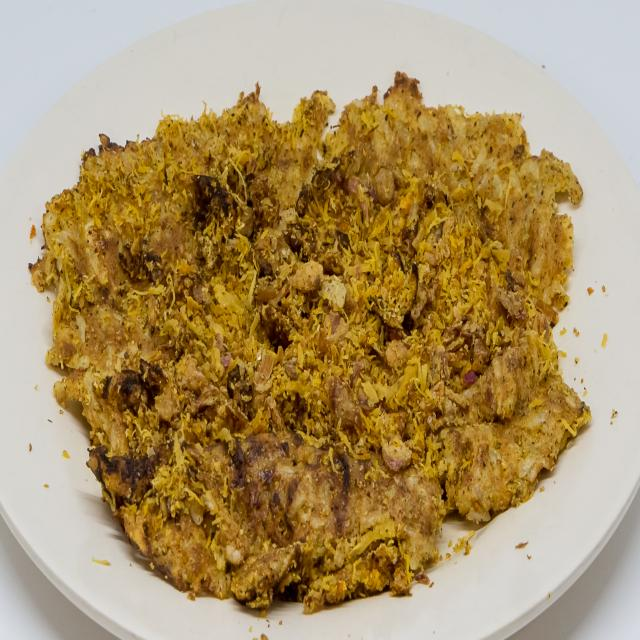Kerak-Telor: (17, 45, 602, 616)
